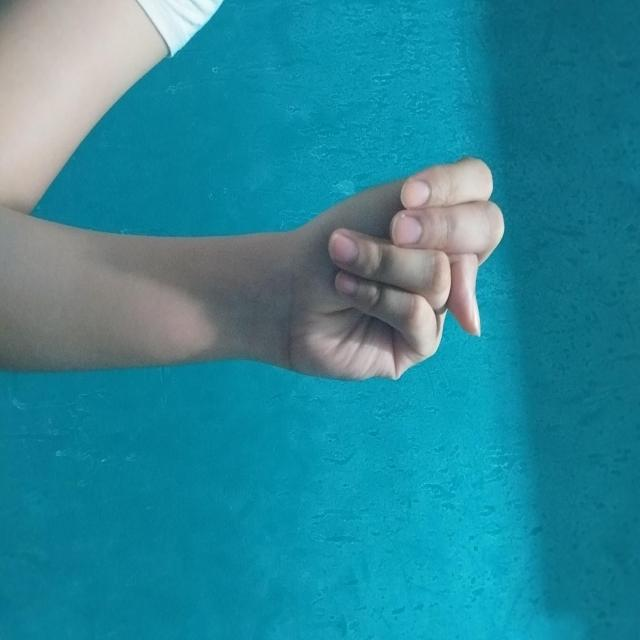N: (154, 135, 383, 353)
